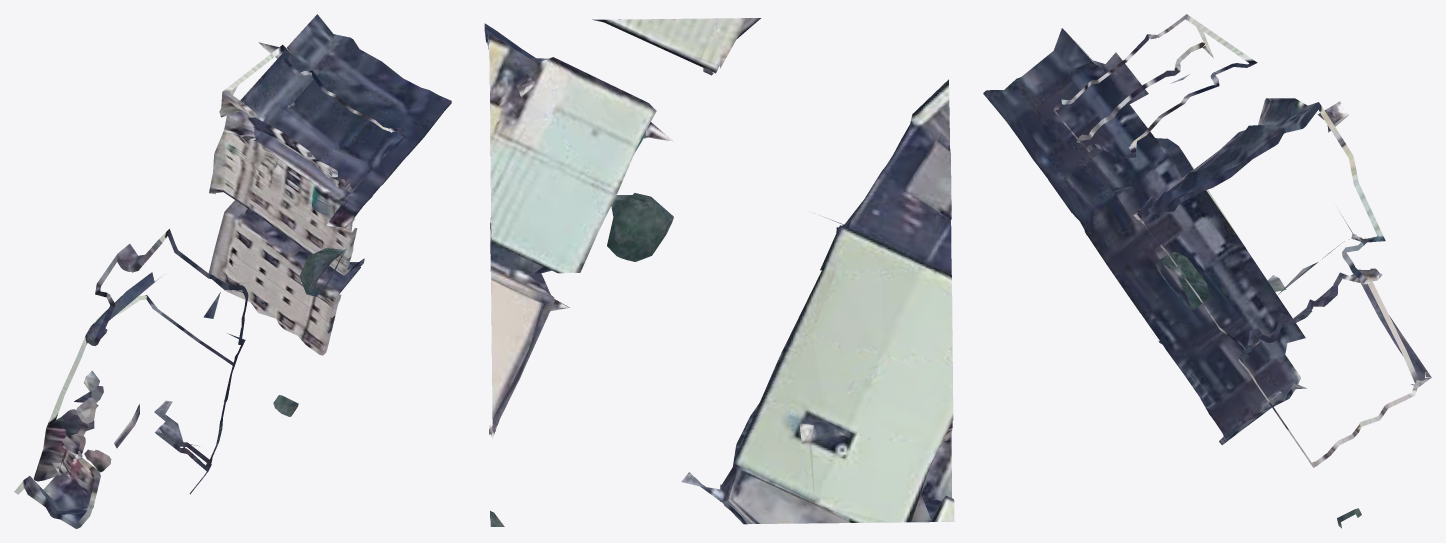
3 views of the same model, side by side, from view 1: azimuth 30°, elevation 25°; view 2: azimuth 150°, elevation 25°; view 3: azimuth 270°, elevation 25° (orthographic). The views are drawn at different scales.
Size of the model in its own units: 43.08 by 40.55 by 37.39.
Materials: 1 (1 with a texture image).
